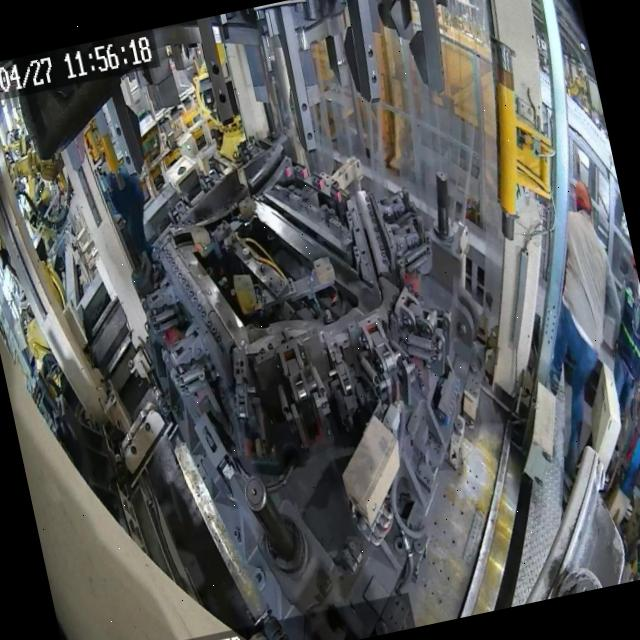Person: (502, 176, 640, 494), (102, 162, 164, 280)
